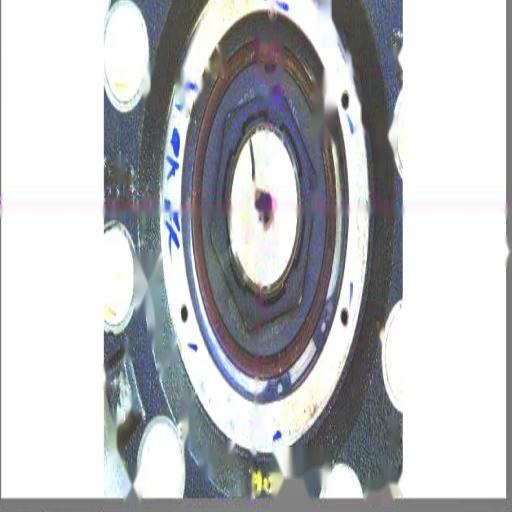center: (255, 190, 275, 235)
notch: (258, 58, 282, 84)
